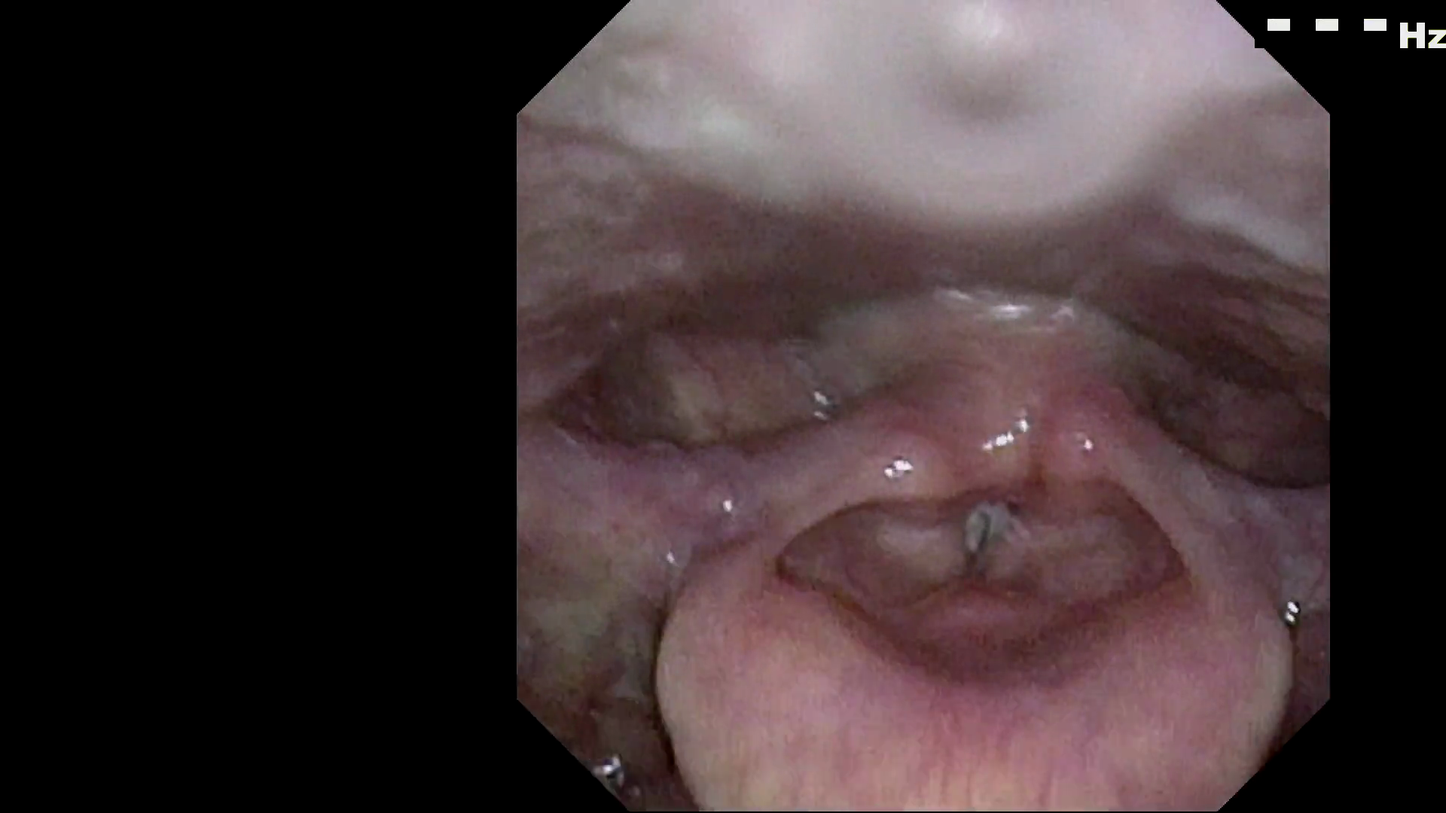epiglottis: (679, 628, 1230, 783)
trachea: (945, 492, 1028, 582)
